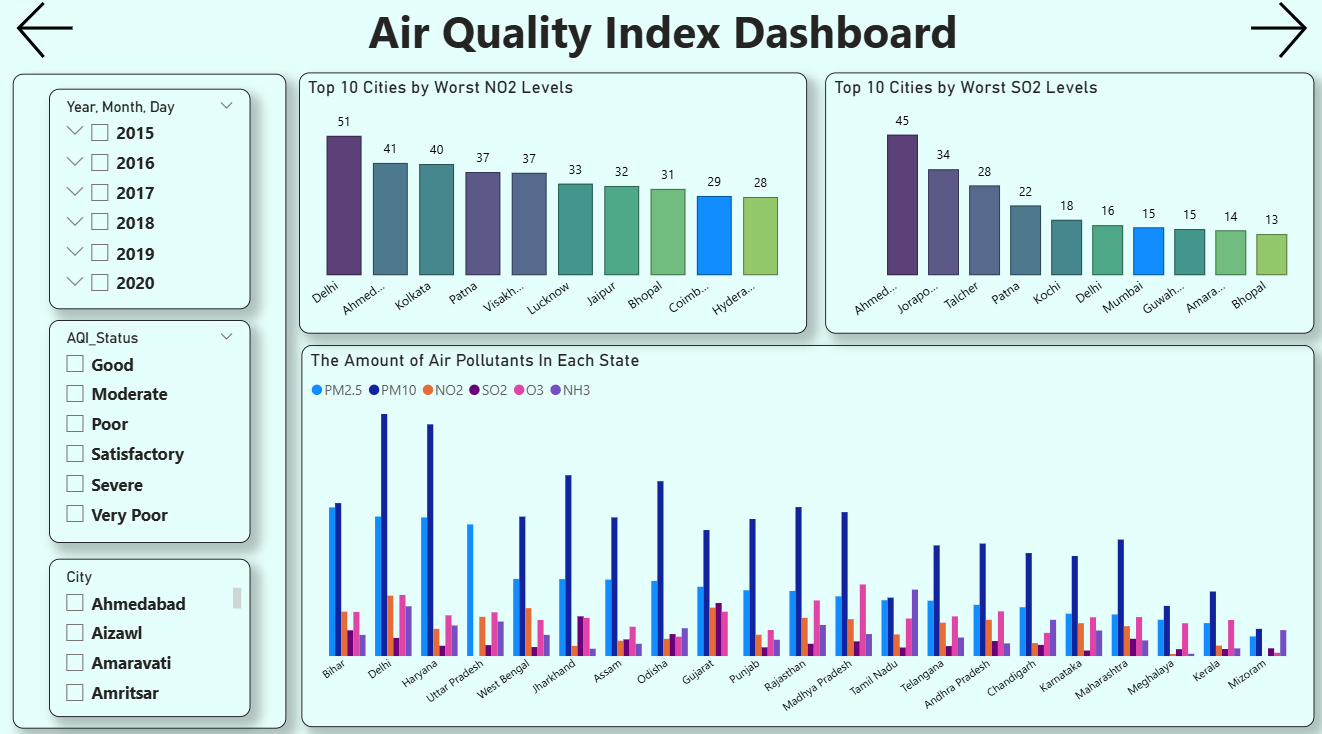

The page's visual inventory and layout, read from the dashboard file:
{"tool":"powerbi","page":{"name":"Page 4","canvas":[1280,720],"ordinal":3},"visuals":[{"type":"textbox","box":[131.2,0,1018.8,67.5],"z":0},{"type":"actionButton","box":[0,0,90,67.5],"z":1000},{"type":"actionButton","box":[1190,0,90,67.5],"z":2000},{"type":"shape","box":[13.5,75.8,264.1,632.2],"z":3000},{"type":"slicer","fields":{"Values":["In.Date.Variation.Date Hierarchy.Year","In.Date.Variation.Date Hierarchy.Month","In.Date.Variation.Date Hierarchy.Day"]},"box":[47.7,90.5,194.4,212.8],"z":4000},{"type":"slicer","fields":{"Values":["In.AQI_Status"]},"box":[47.7,314.3,194.4,215.2],"z":5000},{"type":"slicer","fields":{"Values":["In.City"]},"box":[47.7,544.2,194.4,152.9],"z":6000},{"type":"clusteredColumnChart","title":"The Amount of Air Pollutants In Each State","fields":{"Y":["Avg(In.PM2.5)","Avg(In.PM10)","Avg(In.NO2)","Avg(In.SO2)","Avg(In.O3)","Avg(In.NH3)"],"Category":["In.State"]},"box":[291.4,338.3,977.8,369.1],"z":7000},{"type":"columnChart","title":"Top 10 Cities by Worst NO2 Levels","fields":{"Category":["In.City"],"Y":["Avg(In.NO2)"]},"box":[290.1,75.3,490.1,251.9],"z":8000},{"type":"columnChart","title":"Top 10 Cities by Worst SO2 Levels","fields":{"Category":["In.City"],"Y":["Avg(In.SO2)"]},"box":[797.5,75.3,471.6,251.9],"z":9000}]}

Visuals, with their boxes in screenshot pixels (x1, y1, x2, y2), scaled from the page's 1280x720 canvas onto the 1322x734 screenshot:
textbox: 136,0,1188,69
actionButton: 0,0,93,69
actionButton: 1229,0,1321,69
shape: 14,77,287,722
slicer - In.Date.Variation.Date Hierarchy.Year x In.Date.Variation.Date Hierarchy.Month: 49,92,250,309
slicer - In.AQI_Status: 49,320,250,540
slicer - In.City: 49,555,250,711
"The Amount of Air Pollutants In Each State" clusteredColumnChart: 301,345,1311,721
"Top 10 Cities by Worst NO2 Levels" columnChart: 300,77,806,334
"Top 10 Cities by Worst SO2 Levels" columnChart: 824,77,1311,334
